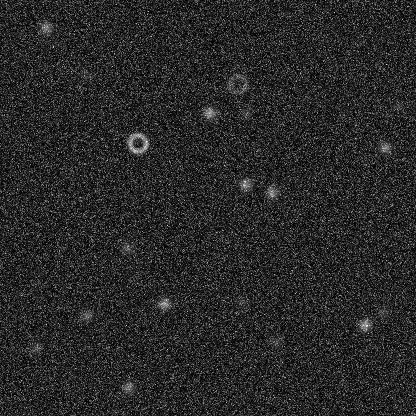Ring: (225, 72, 249, 96), (125, 131, 149, 155)
Spot: (375, 304, 391, 320), (201, 104, 217, 120), (118, 239, 134, 255), (77, 65, 93, 81), (120, 379, 136, 395), (237, 105, 253, 121), (28, 339, 44, 355), (37, 19, 53, 35), (389, 98, 405, 114), (233, 293, 249, 309), (263, 184, 279, 200), (356, 316, 372, 332), (237, 176, 253, 192), (78, 307, 94, 323), (268, 333, 284, 349), (376, 139, 392, 155), (156, 295, 172, 311)
